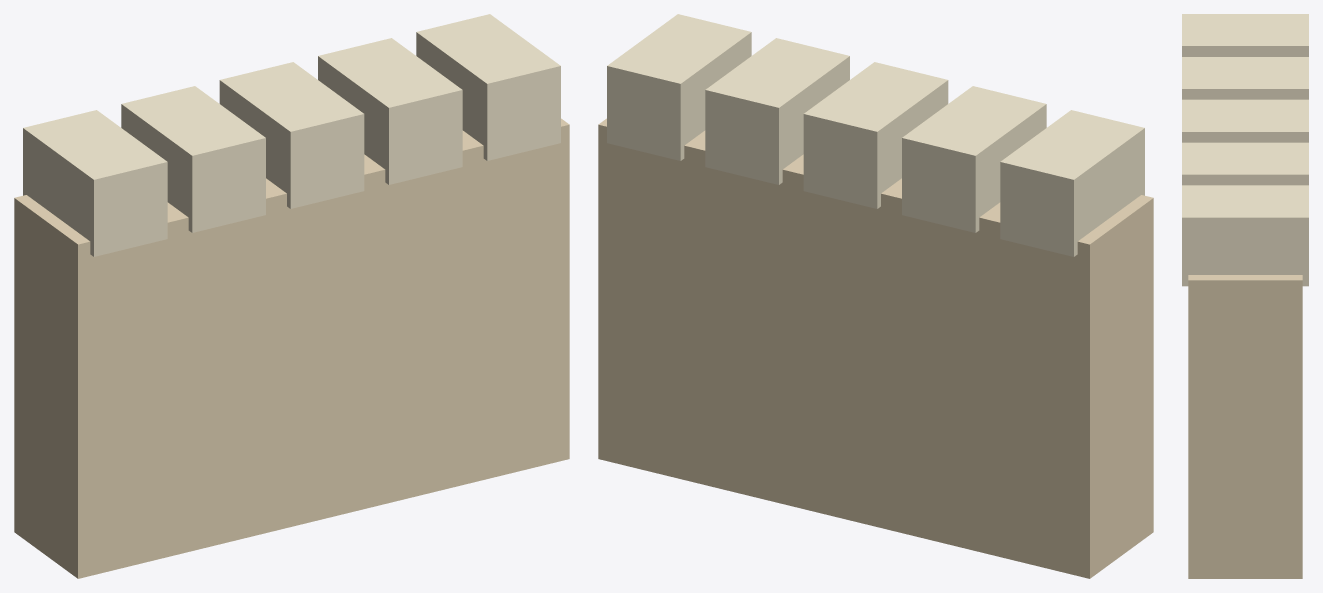
The model's file is wall.gltf.
3 renders of one model, left to right at view 1: azimuth 30°, elevation 25°; view 2: azimuth 150°, elevation 25°; view 3: azimuth 270°, elevation 25°, orthographic. The views are drawn at different scales.
Bounding box in the file's own units: 2 × 1.55 × 0.5.
